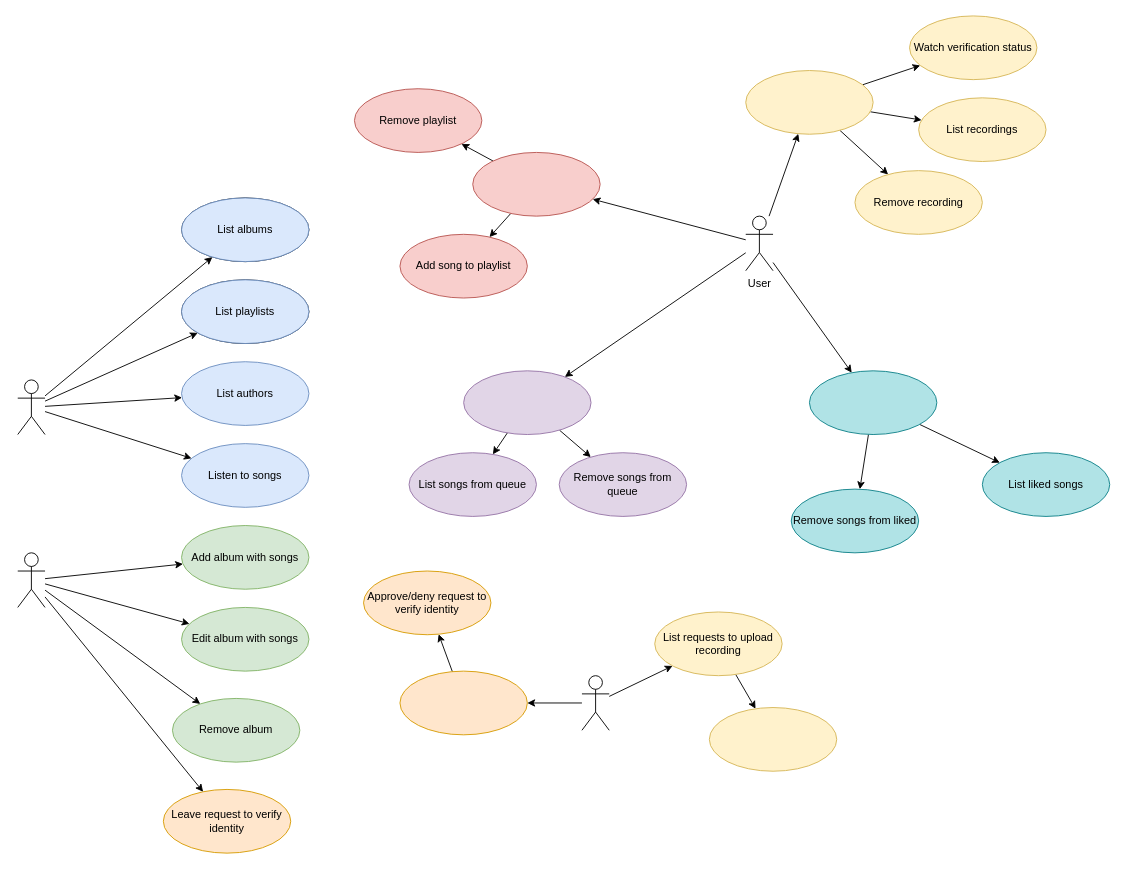
Some shapes in this 1126 by 869 pixel diagram are drawn without their labels. Each missing label, with the centre of its shape:
Add song to queue: [527,402]
Approve requests to upload recordings: [772,739]
Author: [31,579]
Create playlist: [536,184]
Guest: [31,407]
Like songs: [873,402]
List requests to verify identity: [463,702]
Manager: [595,702]
Upload own recording: [809,102]
